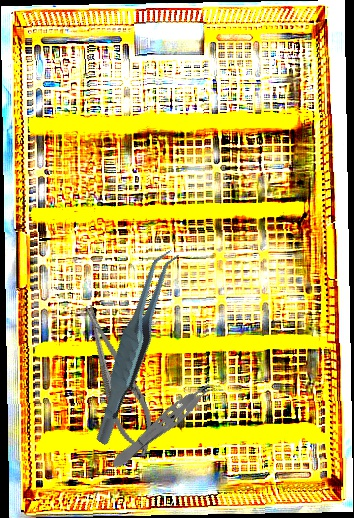Needle Holder: (71, 298, 165, 462)
Tissue Forceps: (57, 245, 213, 447), (106, 373, 225, 475)
